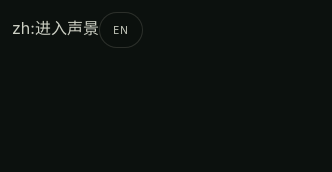
Test: browser language suggestion › keeps the manual switch available without showing a saved-choice prompt
Click the button "EN": click(121, 30) [99,12,143,48]
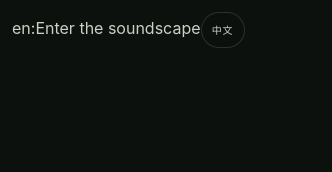
Now the text with test id "current" reads "en:Enter the soundscape", box [12,18,200,38]
Click the button "中文": click(222, 30) [200,12,244,48]
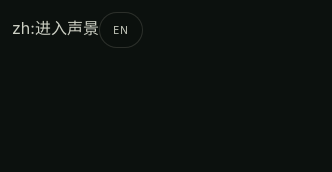
Now the text with test id "current" reads "zh:进入声景", box [12,18,99,38]
